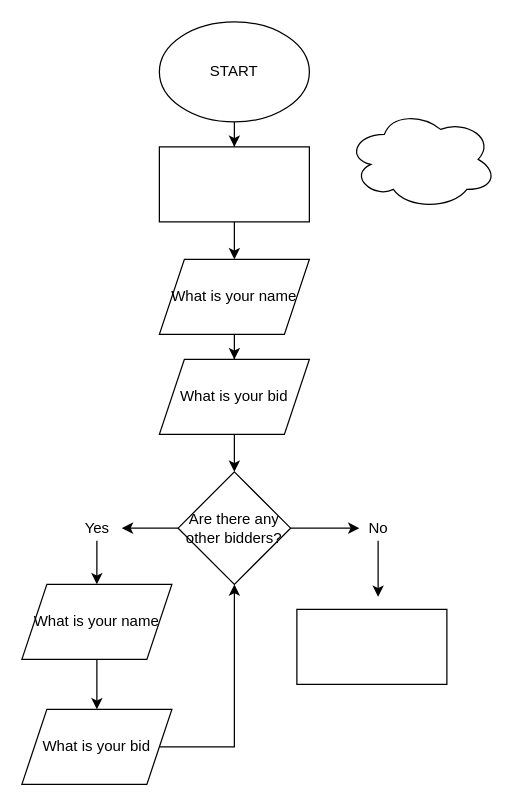
Some shapes in this 519 by 806 pixel diagram are drawn without their labels. The box of each missing label's shape, as (x1, y1, x2, y2) in pixels:
(ascii art)\nWelcome: (158, 146, 309, 222)
Name: KEY Bid : VALUE: (346, 108, 497, 209)
The person with the highest bid wins.: (296, 608, 447, 684)
